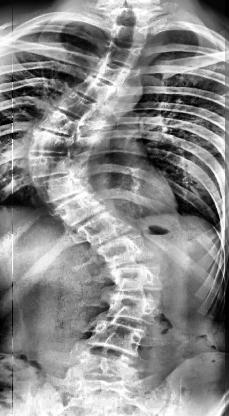Vertebrae: (94, 232, 159, 266), (91, 316, 143, 356), (79, 213, 131, 247), (103, 291, 163, 319), (77, 352, 136, 380), (55, 192, 105, 224), (100, 268, 168, 290), (55, 88, 94, 121), (36, 106, 78, 136), (37, 178, 83, 204), (26, 130, 72, 154), (75, 77, 115, 103), (92, 60, 132, 84), (27, 156, 69, 178), (106, 42, 145, 64), (117, 26, 147, 50)
